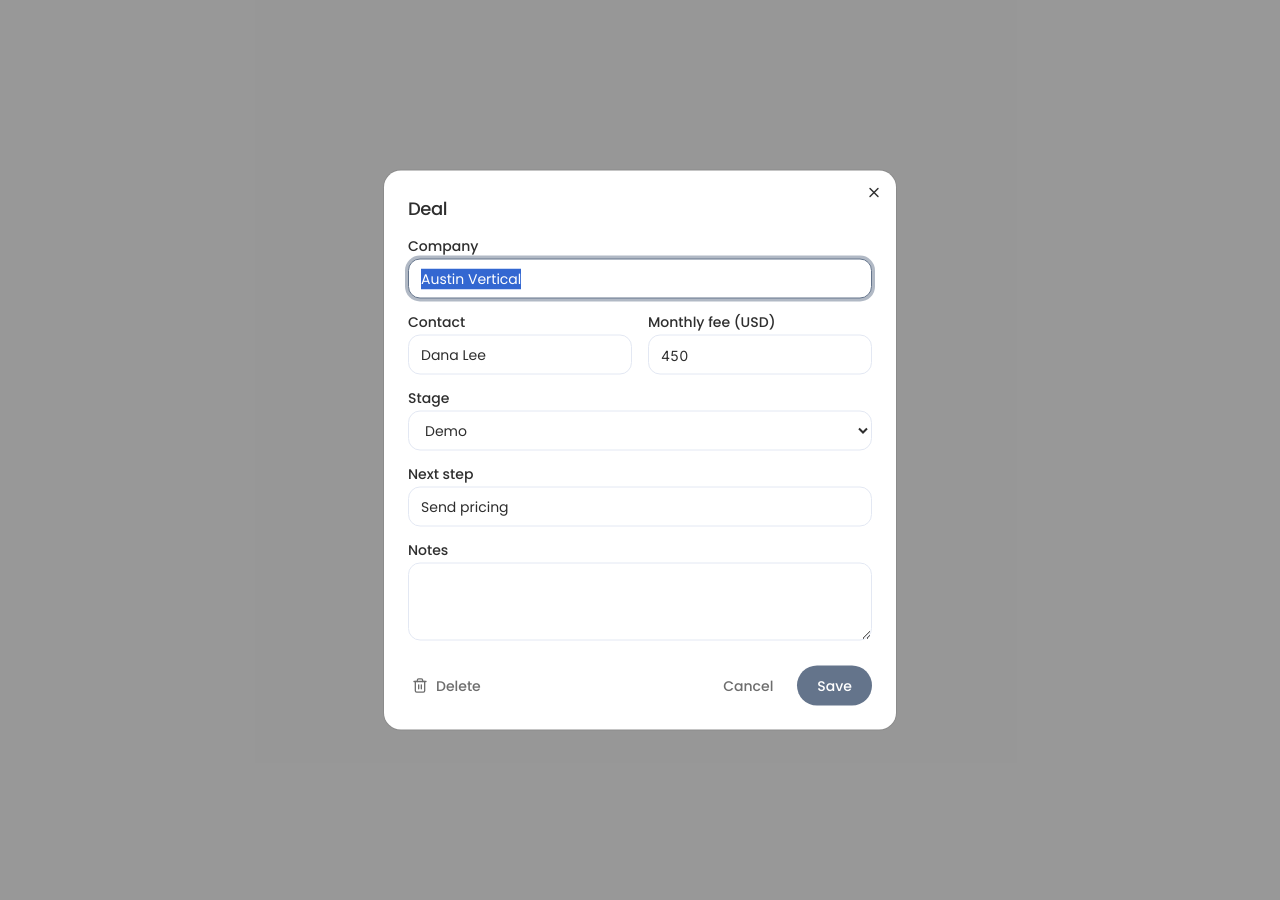
CardEditor: a card made here › a failed save says why and keeps the text and the dialog
Type "Kept" into the text box labelled "Notes" at (640, 602), box [408,562,872,640]
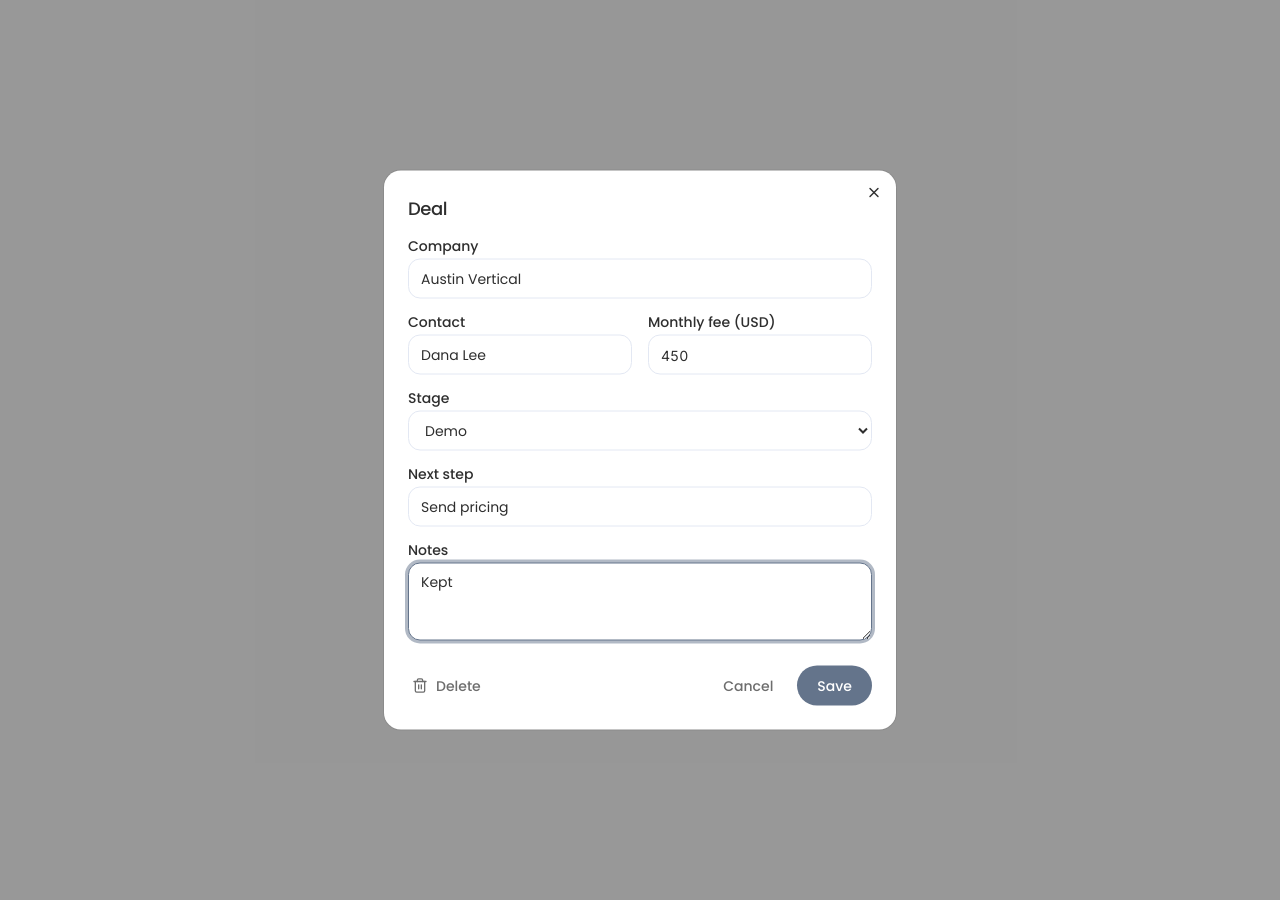
Click the button "Save" at (835, 686), box [797,666,872,706]
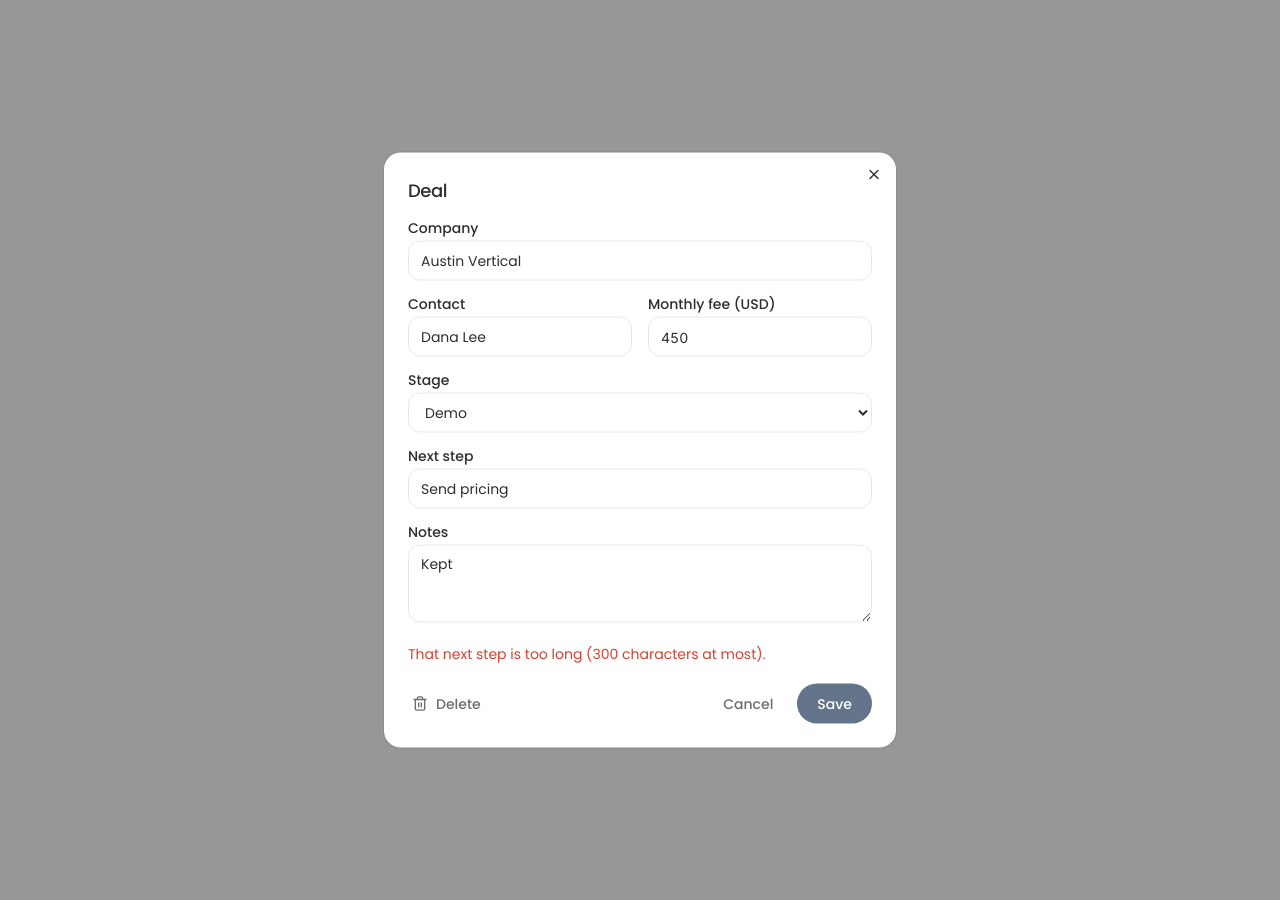
Result: the message reads "That next step is too long (300 characters at most)." at [408,644,766,664]
